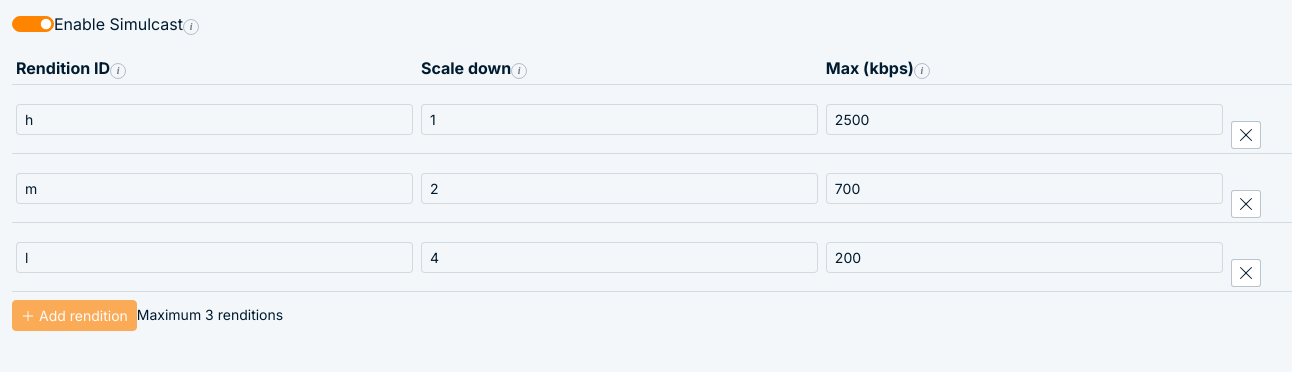
Test: the simulcast table › shows a rendition error where the table is, in Rendition ID terms
Replace the text in the field named "Rendition ID, row 2" with "h" at [214, 188], box 16,172 -> 413,204
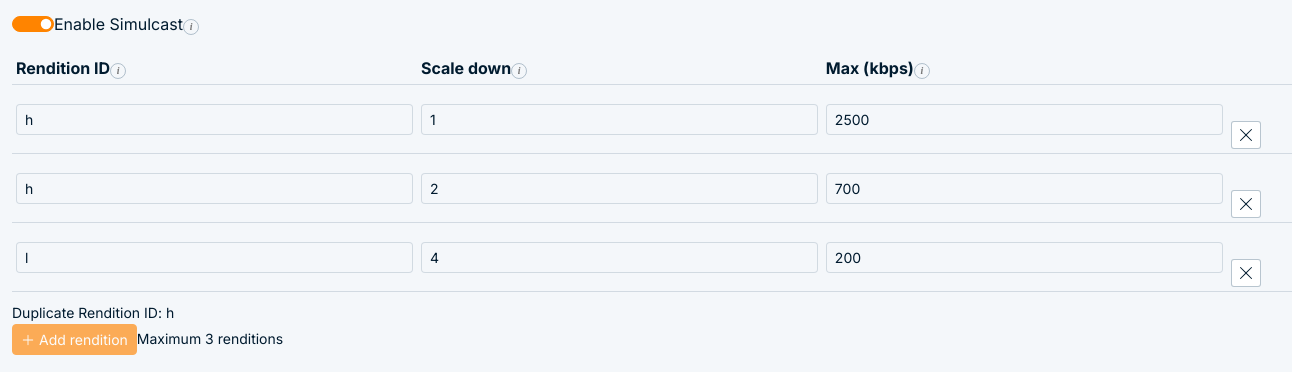
Expected: the message reads "Duplicate Rendition ID: h", 12,304 -> 174,321
